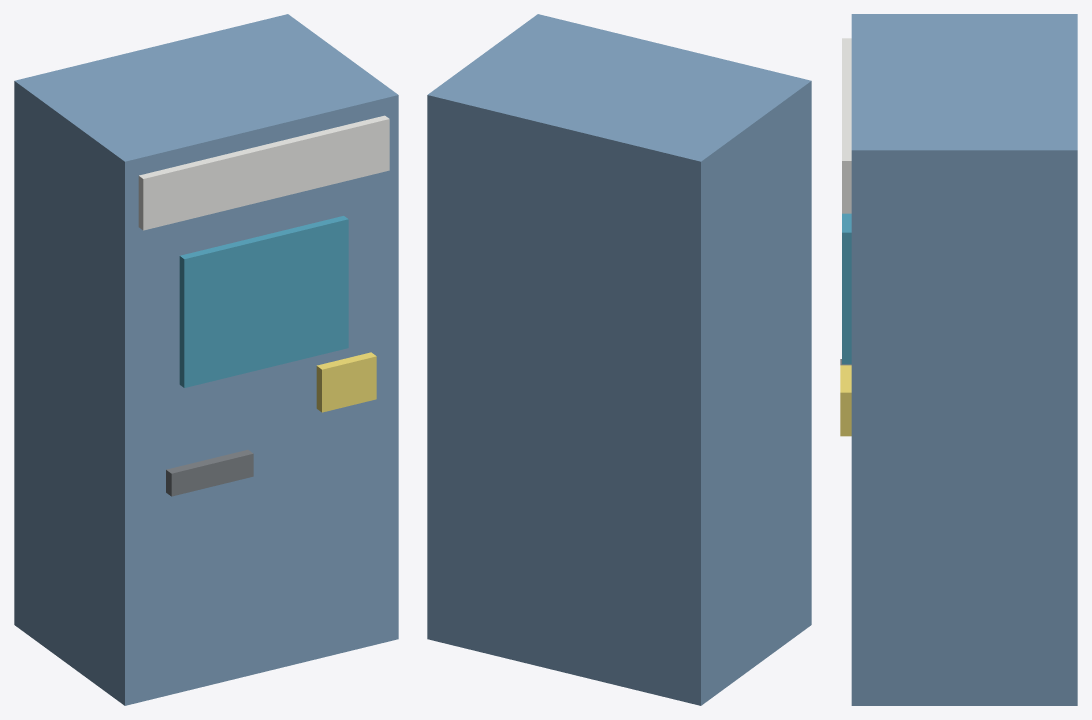
File: TicketMachine.fbx
The picture shows the model from 3 angles, left to right: view 1: azimuth 30°, elevation 25°; view 2: azimuth 150°, elevation 25°; view 3: azimuth 270°, elevation 25°; orthographic projection. The views are drawn at different scales.
Visible parts, largest first — view 1: TicketMachine; view 2: TicketMachine; view 3: TicketMachine.
Part boxes in pixels (x1,y1,x2,y2): TicketMachine: [14, 14, 398, 705]; TicketMachine: [427, 14, 811, 705]; TicketMachine: [840, 14, 1077, 705].
Bounding box in the file's own units: 100 × 190 × 73.5.
